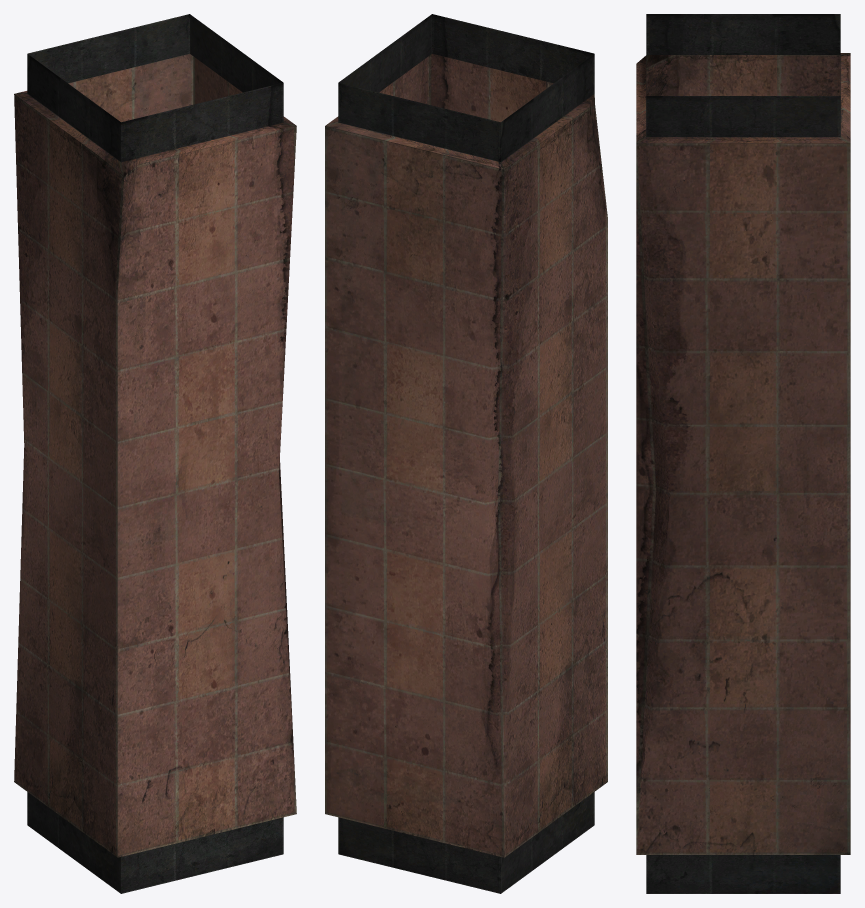
The model's file is Pillar01.DAE.
3 views of the same model, side by side, from view 1: azimuth 30°, elevation 25°; view 2: azimuth 150°, elevation 25°; view 3: azimuth 270°, elevation 25° (orthographic). The views are drawn at different scales.
Visible parts, largest first — view 1: Box001; view 2: Box001; view 3: Box001.
Part boxes in pixels (x1,y1,x2,y2): Box001: (14, 14, 296, 893); Box001: (325, 14, 607, 893); Box001: (636, 14, 850, 893).
Size of the model in its own units: 0.7427 by 0.7427 by 3.06.
